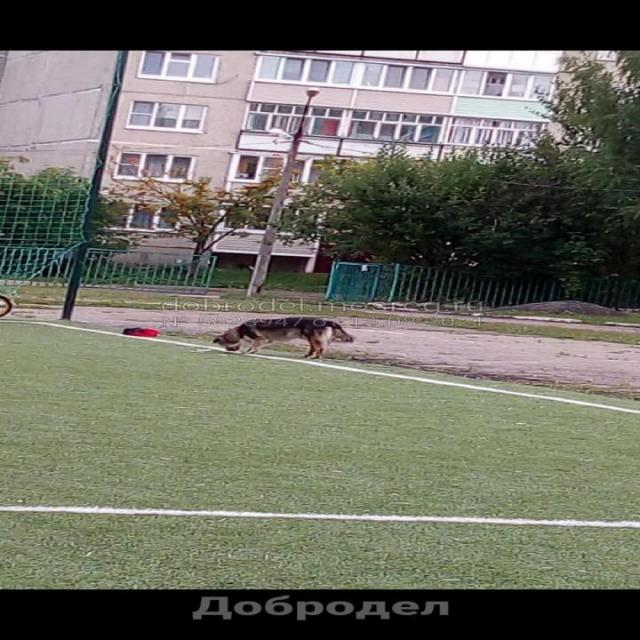dog: (210, 313, 351, 362)
